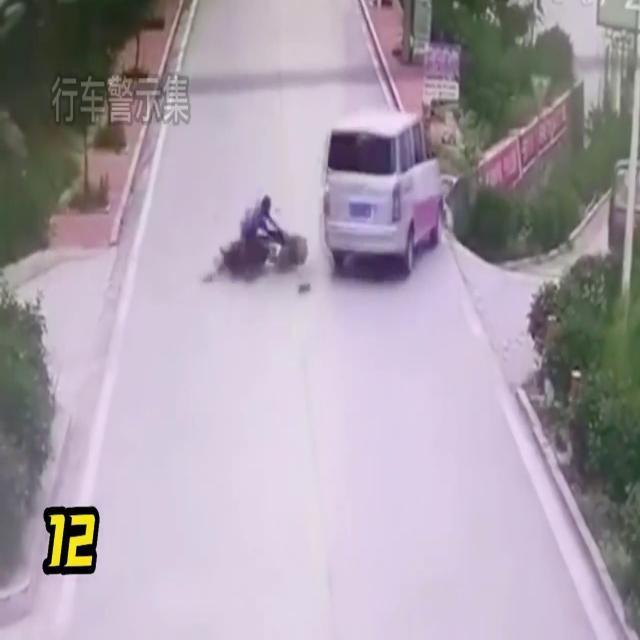accident: (200, 105, 448, 298)
